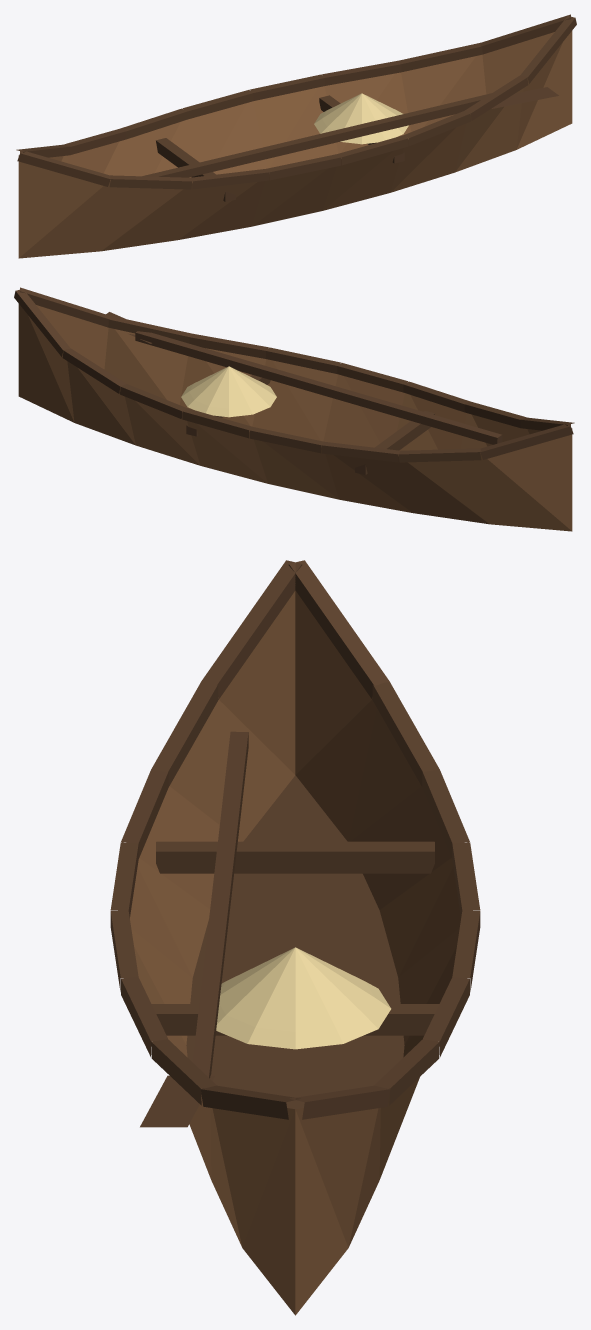
The model's file is viet_sampan.glb.
The picture shows the model from 3 angles, top to bottom: view 1: azimuth 30°, elevation 25°; view 2: azimuth 150°, elevation 25°; view 3: azimuth 270°, elevation 25°; orthographic projection. The views are drawn at different scales.
Visible parts, largest first — view 1: viet_sampan; view 2: viet_sampan; view 3: viet_sampan.
Part boxes in pixels (<box>): viet_sampan: <box>16,14,576,258</box>; viet_sampan: <box>14,287,574,531</box>; viet_sampan: <box>110,560,480,1315</box>.
Size of the model in its own units: 1 by 0.1829 by 0.286.
